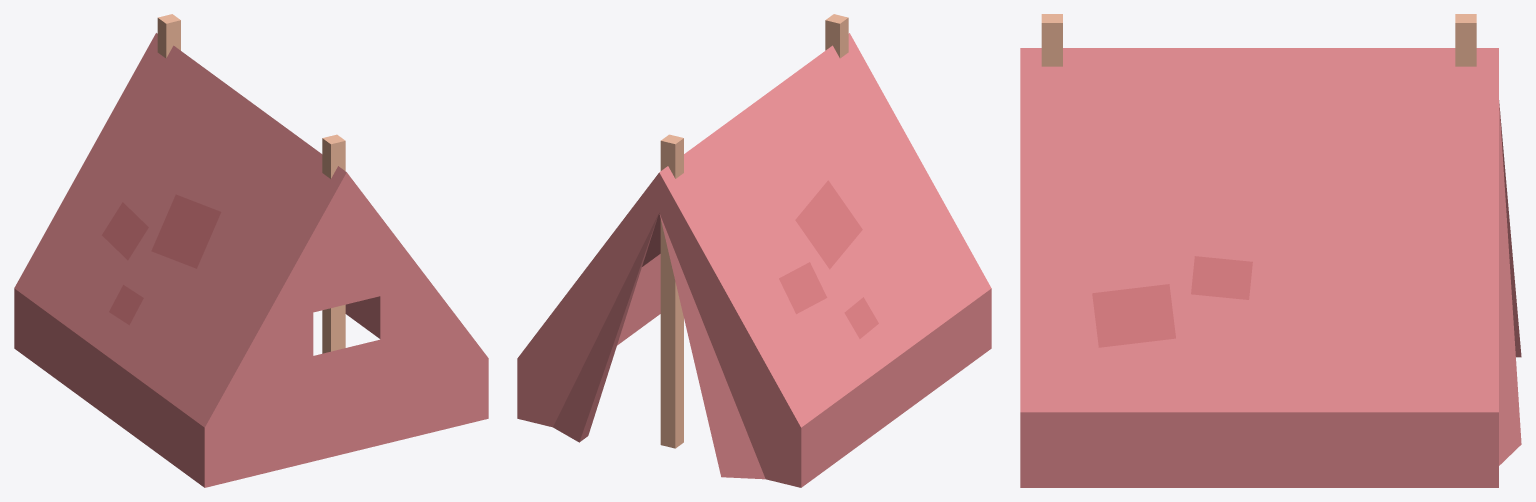
The model's file is tent_smallOpen.glb.
3 views of the same model, side by side, from view 1: azimuth 30°, elevation 25°; view 2: azimuth 150°, elevation 25°; view 3: azimuth 270°, elevation 25° (orthographic). The views are drawn at different scales.
Parts seen in each view (by area): view 1: tent_smallOpen; view 2: tent_smallOpen; view 3: tent_smallOpen.
Boxes of the visible parts, bbox=[...] form: tent_smallOpen: bbox=[14, 14, 488, 487]; tent_smallOpen: bbox=[517, 14, 991, 487]; tent_smallOpen: bbox=[1020, 14, 1521, 487].
Bounding box in the file's own units: 0.5476 × 0.5611 × 0.6664.
